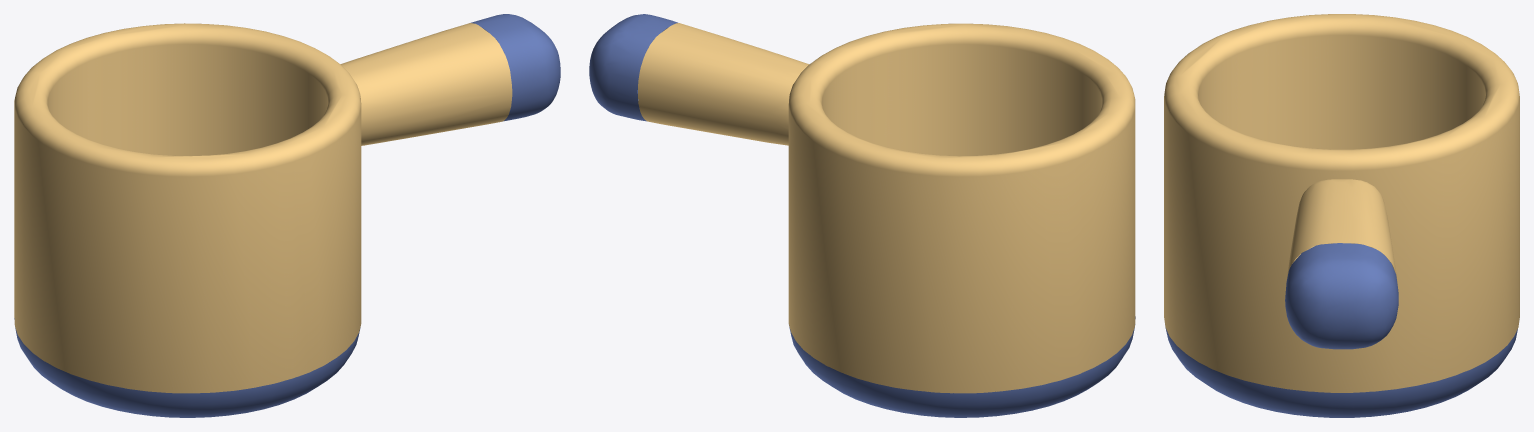
Rendered from dippers.glb.
3 renders of one model, left to right at view 1: azimuth 30°, elevation 25°; view 2: azimuth 150°, elevation 25°; view 3: azimuth 270°, elevation 25°, orthographic. The views are drawn at different scales.
Visible parts, largest first — view 1: Cylinder_primitive0; view 2: Cylinder_primitive0; view 3: Cylinder_primitive0.
Part boxes in pixels (x1=…): Cylinder_primitive0: x1=14, y1=14, x2=560, y2=417; Cylinder_primitive0: x1=589, y1=14, x2=1135, y2=417; Cylinder_primitive0: x1=1164, y1=14, x2=1519, y2=417.
Bounding box in the file's own units: 1.86 × 0.9384 × 1.09.
Materials: 1 (1 with a texture image).
